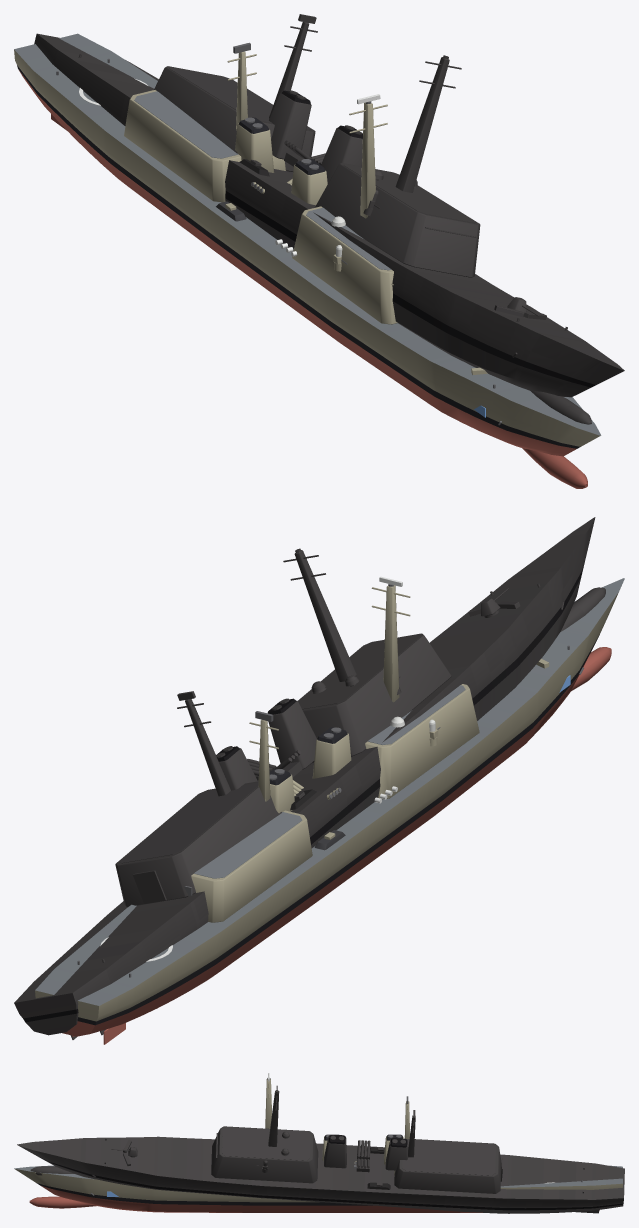
The model's file is destroyer__asagiri_class.glb.
3 views of the same model, one above another, from view 1: azimuth 30°, elevation 25°; view 2: azimuth 150°, elevation 25°; view 3: azimuth 270°, elevation 25° (orthographic). The views are drawn at different scales.
Parts seen in each view (by area): view 1: Hull_Mesh, Wreck; view 2: Wreck, Hull_Mesh; view 3: Wreck, Hull_Mesh.
Part boxes in pixels (<box>): Hull_Mesh: <box>14,33,601,488</box>; Wreck: <box>34,14,624,424</box>; Wreck: <box>14,517,605,1039</box>; Hull_Mesh: <box>35,578,624,1044</box>; Wreck: <box>17,1085,624,1213</box>; Hull_Mesh: <box>14,1079,622,1212</box>.
Size of what is drawn, in the model's own units: 22.15 by 36.6 by 143.
